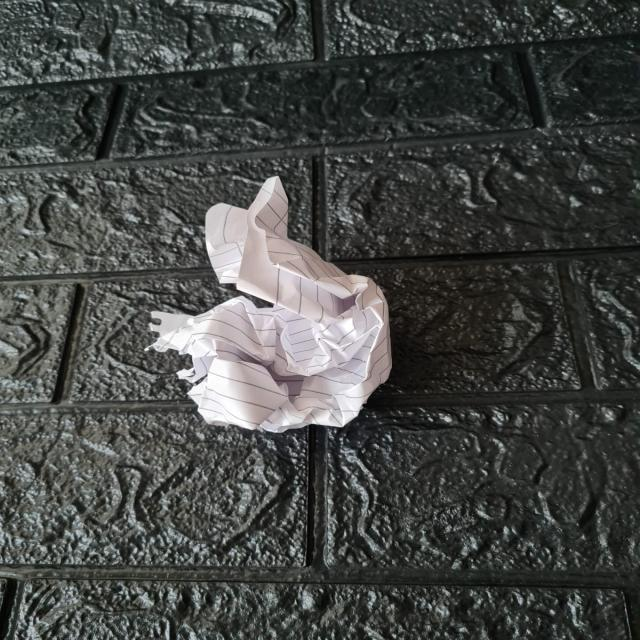Paper: (147, 177, 391, 435)
